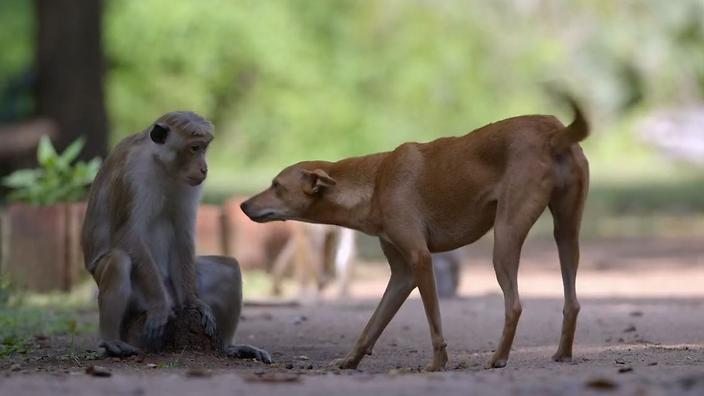Dog: (235, 78, 620, 375)
Monkey: (78, 103, 219, 360)
